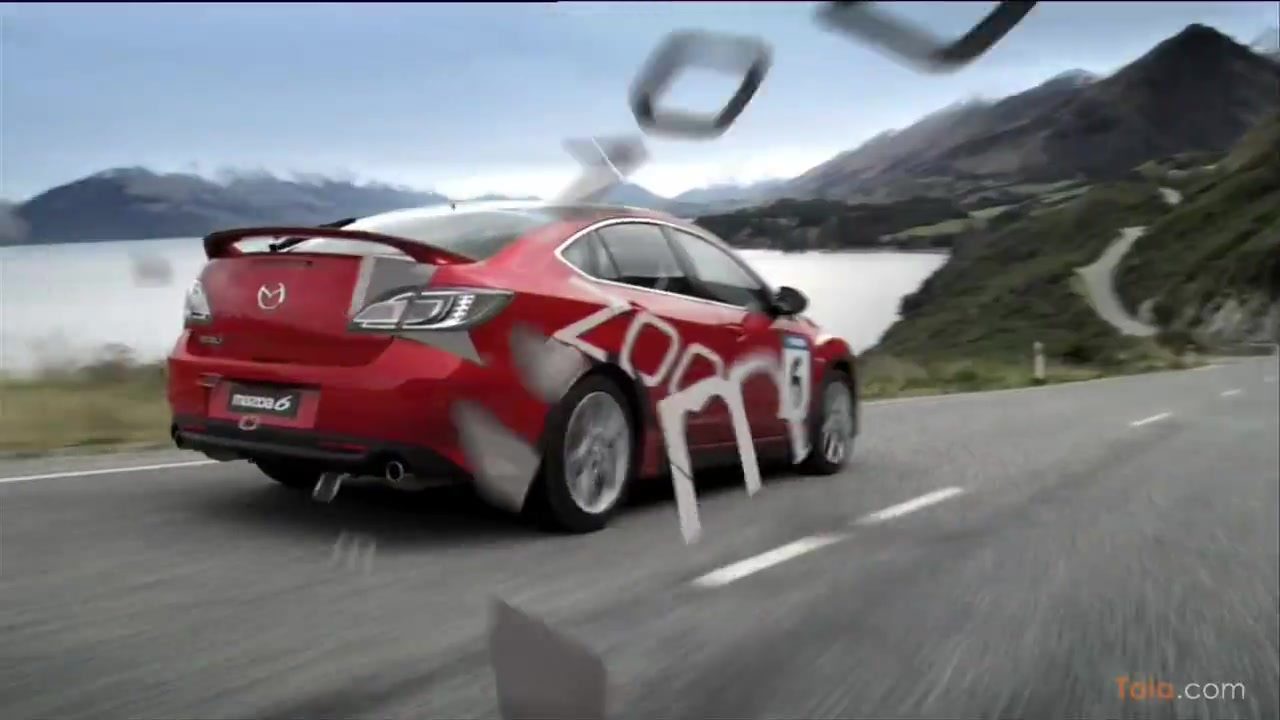car: (162, 196, 864, 536)
